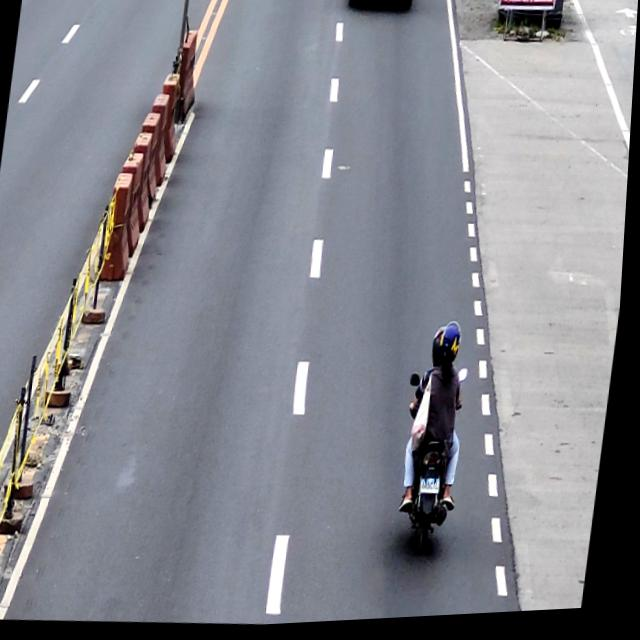License-Plate: (423, 482, 446, 499)
Motorcycle: (393, 370, 473, 560)
